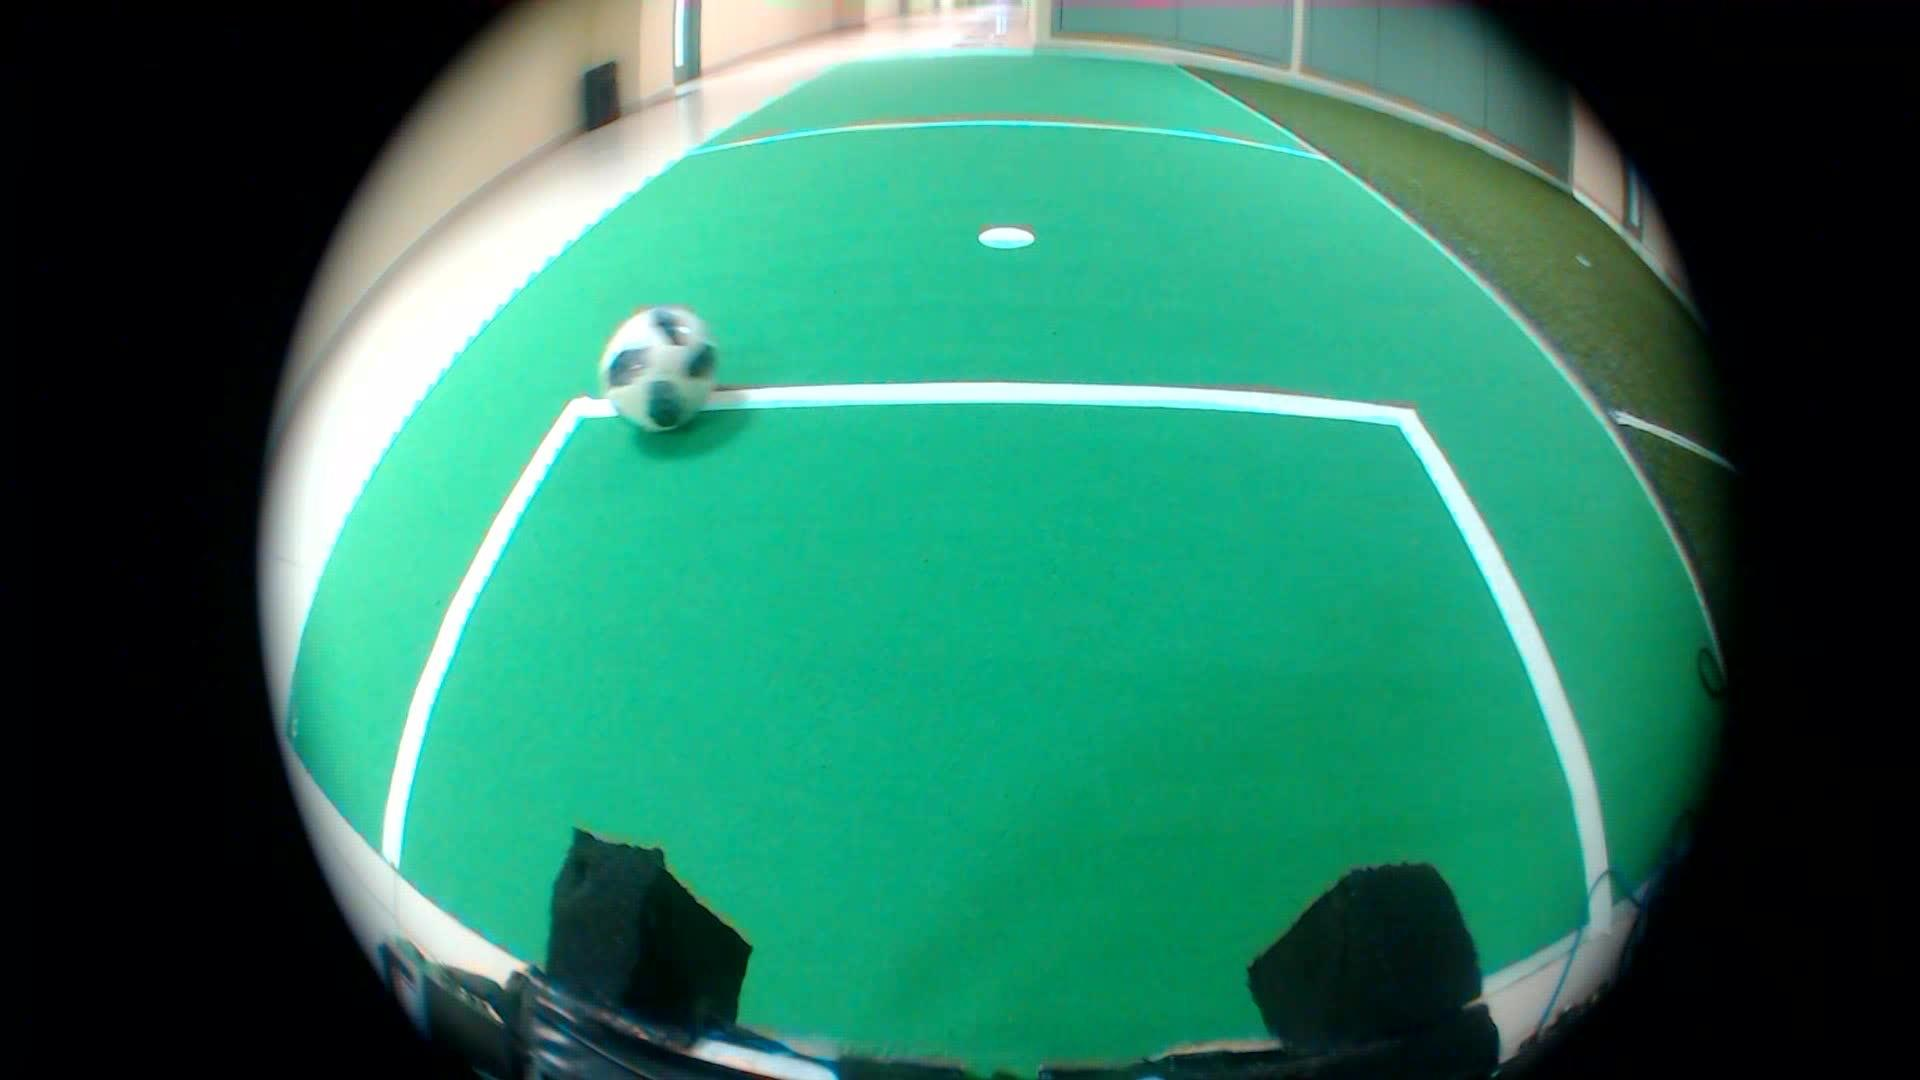ball: (589, 297, 746, 444)
